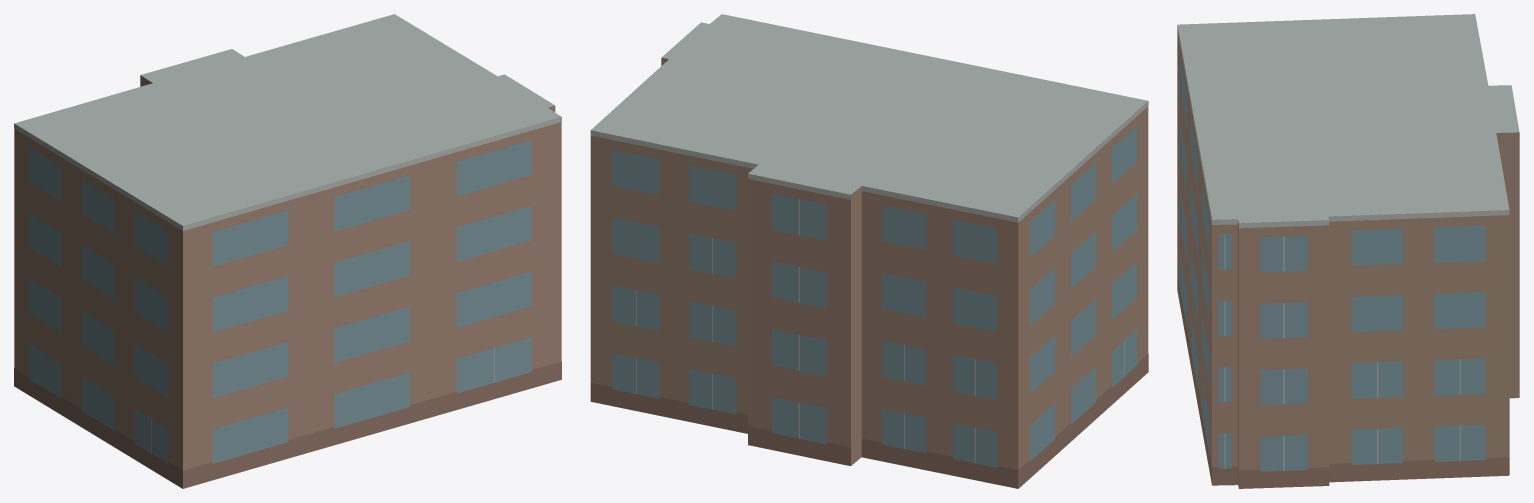
File: survey-upis-33023909.glb
3 renders of one model, left to right at view 1: azimuth 30°, elevation 25°; view 2: azimuth 150°, elevation 25°; view 3: azimuth 270°, elevation 25°, orthographic. The views are drawn at different scales.
Visible parts, largest first — view 1: survey-upis-33023909.tmp; view 2: survey-upis-33023909.tmp; view 3: survey-upis-33023909.tmp.
Boxes of the visible parts, x1=… form: survey-upis-33023909.tmp: x1=14, y1=14, x2=561, y2=488; survey-upis-33023909.tmp: x1=590, y1=14, x2=1148, y2=488; survey-upis-33023909.tmp: x1=1177, y1=14, x2=1519, y2=488.
Size of the model in its own units: 21.46 by 12.7 by 14.83.
